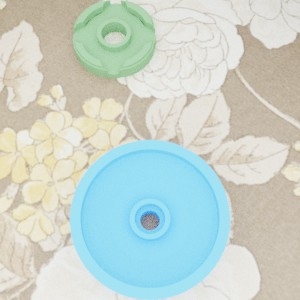lego: (69, 139, 230, 300), (72, 0, 156, 78)
